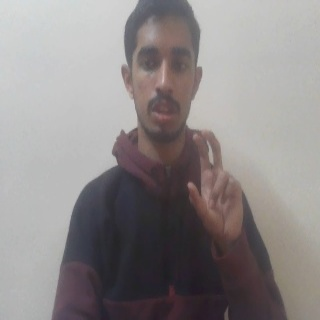Face: (119, 1, 205, 144)
No: (184, 128, 249, 240)
